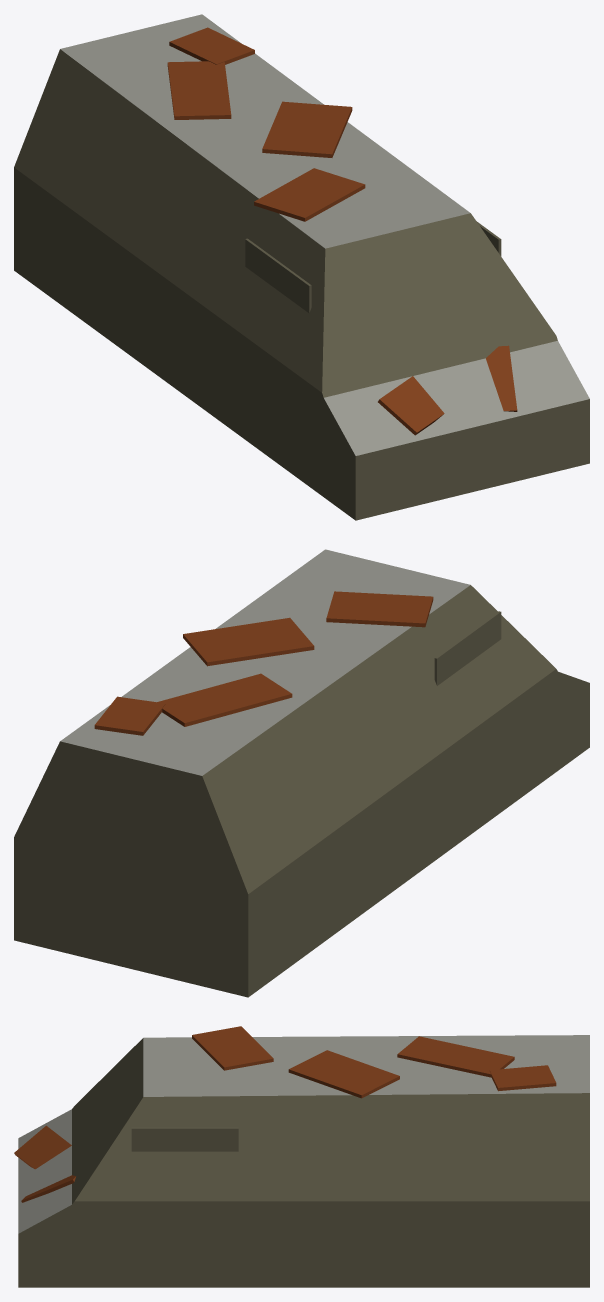
Rendered from SM_CocheCivil_Furgoneta_v4_LOD1.fbx.
3 renders of one model, top to bottom at view 1: azimuth 30°, elevation 25°; view 2: azimuth 150°, elevation 25°; view 3: azimuth 270°, elevation 25°, orthographic. The views are drawn at different scales.
Parts seen in each view (by area): view 1: SM_coche_civil_v14_LOD1; view 2: SM_coche_civil_v14_LOD1; view 3: SM_coche_civil_v14_LOD1.
Boxes of the visible parts, box(x1,y1,x2,y2) form: SM_coche_civil_v14_LOD1: box(14, 14, 589, 520); SM_coche_civil_v14_LOD1: box(14, 549, 589, 997); SM_coche_civil_v14_LOD1: box(14, 1026, 589, 1287).
Size of the model in its own units: 1.9 by 1.67 by 4.84.
